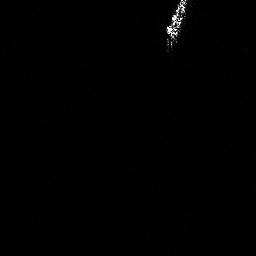ship: (165, 1, 187, 49)
